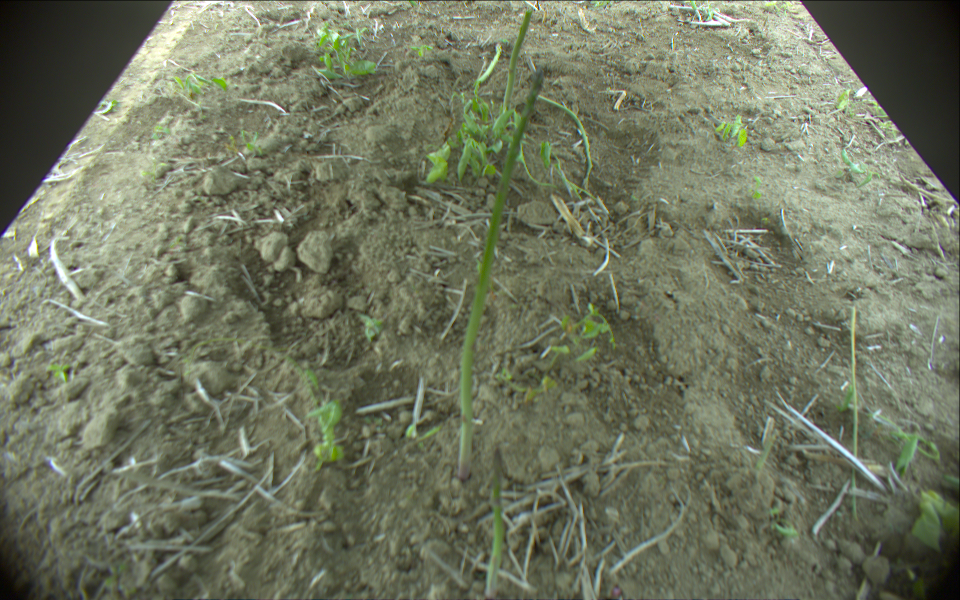aspa: (454, 76, 542, 481), (534, 93, 594, 191), (500, 9, 535, 122), (480, 445, 505, 600), (848, 305, 862, 465), (477, 41, 503, 86)
